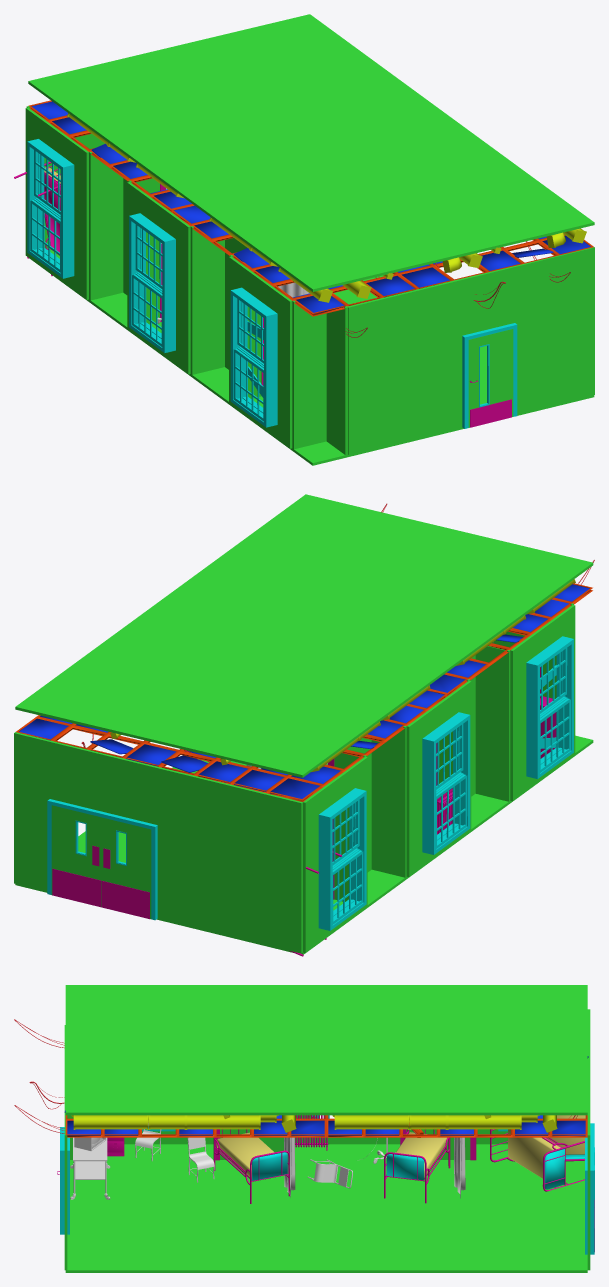
Rendered from TO_Jam_Room_Medium_Var2.fbx.
3 renders of one model, top to bottom at view 1: azimuth 30°, elevation 25°; view 2: azimuth 150°, elevation 25°; view 3: azimuth 270°, elevation 25°, orthographic. The views are drawn at different scales.
Parts seen in each view (by area): view 1: ICU_RoofSet_1_7/8U.005, ICU_RoofSet_1_7/8U.006, ICU_WallSet_3_3U_.008, ICU_WallSet_2_2U_.006, ICU_WindowSet_Small_3U_.003, ICU_WindowSet_Small_3U_.005, ICU_WindowSet_Small_3U_.004, ICU_DoorwaySet_Single_2U_.002, ICU_WallSet_1_1U_.010, ICU_WallSet_1_1U_.012, ICU_WallSet_1_1U_.013, ICU_DoorSet_SingleDoor_2U_.002 (+6 smaller); view 2: ICU_RoofSet_1_7/8U.006, ICU_RoofSet_1_7/8U.005, ICU_WallSet_3_3U_.007, ICU_WindowSet_Small_3U_.003, ICU_WindowSet_Small_3U_.004, ICU_WindowSet_Small_3U_.005, ICU_DoorwaySet_Double_3U_.002, ICU_WallSet_1_1U_.015, ICU_WallSet_1_1U_.014, ICU_WallSet_1_1U_.011, ICU_WallSet_1_1U_.009, ICU_DoorSet_DoubleDoorR_3U_.003 (+6 smaller); view 3: ICU_RoofSet_1_7/8U.005, ICU_RoofSet_1_7/8U.006, ICU_FloorSet_1_7/8U_.005, ICU_FloorSet_1_7/8U_.006, ICU_FurnSet_HBed_Norm_.007, ICU_FurnSet_HBed_Norm_.005, ICU_FurnSet_HBed_Norm_.008, ICU_DoorwaySet_Double_3U_.002, PR_table_001.002, ICU_DoorwaySet_Single_2U_.002, ICU_WindowSet_Small_3U_.004, PR_chair_001.006 (+12 smaller).
Boxes of the visible parts, left/top/right/bottom form: ICU_RoofSet_1_7/8U.005: left=170, top=118, right=594, bottom=337; ICU_RoofSet_1_7/8U.006: left=28, top=14, right=451, bottom=212; ICU_WallSet_3_3U_.008: left=347, top=281, right=453, bottom=454; ICU_WallSet_2_2U_.006: left=524, top=247, right=594, bottom=411; ICU_WindowSet_Small_3U_.003: left=229, top=256, right=292, bottom=448; ICU_WindowSet_Small_3U_.005: left=25, top=107, right=88, bottom=299; ICU_WindowSet_Small_3U_.004: left=127, top=182, right=190, bottom=374; ICU_DoorwaySet_Single_2U_.002: left=453, top=264, right=524, bottom=429; ICU_WallSet_1_1U_.010: left=292, top=300, right=326, bottom=449; ICU_WallSet_1_1U_.012: left=190, top=226, right=224, bottom=374; ICU_WallSet_1_1U_.013: left=89, top=151, right=123, bottom=300; ICU_DoorSet_SingleDoor_2U_.002: left=468, top=329, right=513, bottom=427; ICU_RoofSet_1_7/8U.006: left=15, top=600, right=447, bottom=801; ICU_RoofSet_1_7/8U.005: left=161, top=494, right=594, bottom=696; ICU_WallSet_3_3U_.007: left=157, top=767, right=266, bottom=944; ICU_WindowSet_Small_3U_.003: left=510, top=605, right=575, bottom=801; ICU_WindowSet_Small_3U_.004: left=406, top=681, right=471, bottom=876; ICU_WindowSet_Small_3U_.005: left=303, top=756, right=367, bottom=952; ICU_DoorwaySet_Double_3U_.002: left=47, top=741, right=158, bottom=920; ICU_WallSet_1_1U_.015: left=265, top=793, right=302, bottom=953; ICU_WallSet_1_1U_.014: left=14, top=732, right=50, bottom=891; ICU_WallSet_1_1U_.011: left=475, top=646, right=510, bottom=801; ICU_WallSet_1_1U_.009: left=371, top=726, right=406, bottom=877; ICU_DoorSet_DoubleDoorR_3U_.003: left=51, top=805, right=101, bottom=907; ICU_RoofSet_1_7/8U.005: left=14, top=985, right=326, bottom=1137; ICU_RoofSet_1_7/8U.006: left=296, top=985, right=588, bottom=1137; ICU_FloorSet_1_7/8U_.005: left=65, top=1144, right=326, bottom=1272; ICU_FloorSet_1_7/8U_.006: left=326, top=1144, right=587, bottom=1272; ICU_FurnSet_HBed_Norm_.007: left=213, top=1129, right=289, bottom=1203; ICU_FurnSet_HBed_Norm_.005: left=490, top=1129, right=584, bottom=1191; ICU_FurnSet_HBed_Norm_.008: left=384, top=1129, right=450, bottom=1203; ICU_DoorwaySet_Double_3U_.002: left=585, top=1072, right=594, bottom=1254; PR_table_001.002: left=73, top=1137, right=107, bottom=1179; ICU_DoorwaySet_Single_2U_.002: left=60, top=1072, right=69, bottom=1234; ICU_WindowSet_Small_3U_.004: left=295, top=1115, right=400, bottom=1144; PR_chair_001.006: left=307, top=1159, right=352, bottom=1188.
Bounding box in the file's own units: 842 × 484 × 1558.
